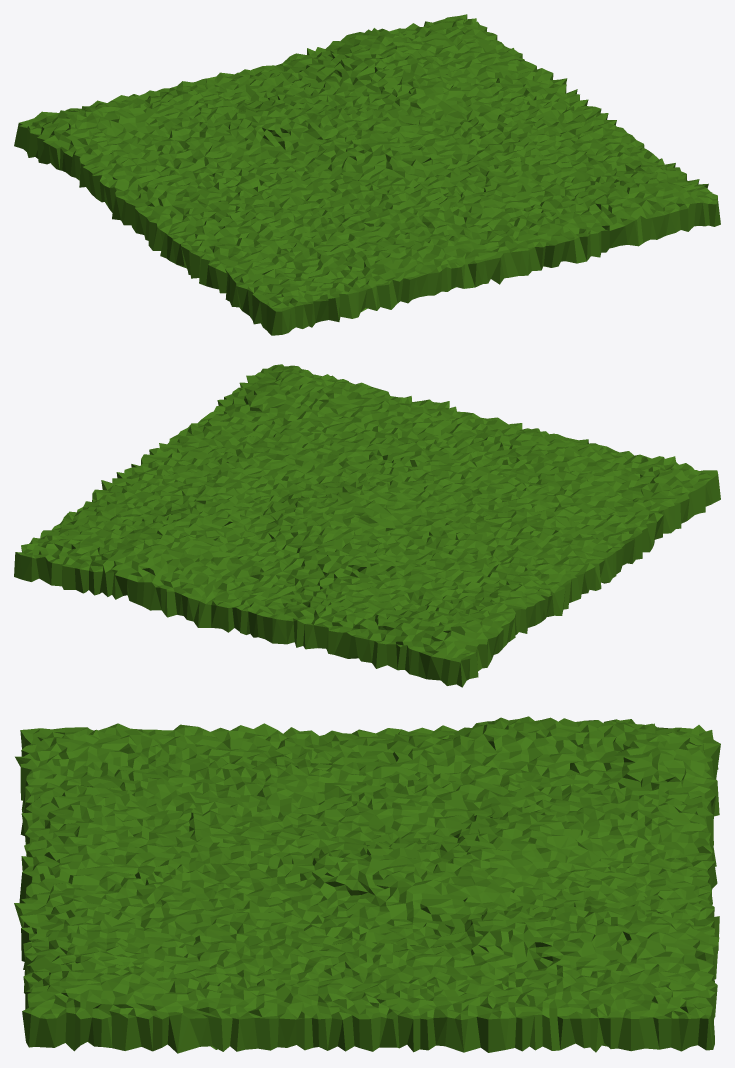
File: GND.fbx
The picture shows the model from 3 angles, top to bottom: view 1: azimuth 30°, elevation 25°; view 2: azimuth 150°, elevation 25°; view 3: azimuth 270°, elevation 25°; orthographic projection. The views are drawn at different scales.
Visible parts, largest first — view 1: Plane; view 2: Plane; view 3: Plane.
Boxes of the visible parts, <box> form: Plane: <box>14,14,720,335</box>; Plane: <box>14,364,720,687</box>; Plane: <box>14,716,720,1053</box>.
Bounding box in the file's own units: 24682 × 2363 × 24711.
